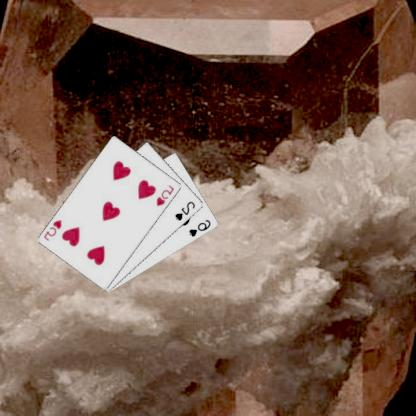2S: (174, 199, 198, 222)
5H: (156, 182, 178, 208), (43, 217, 65, 242)
6S: (188, 217, 214, 238)
